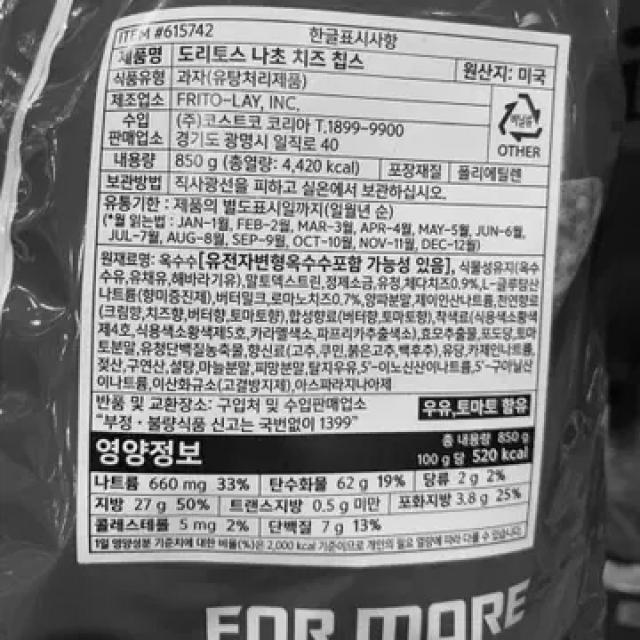Nutrition Label: (73, 419, 542, 568)
